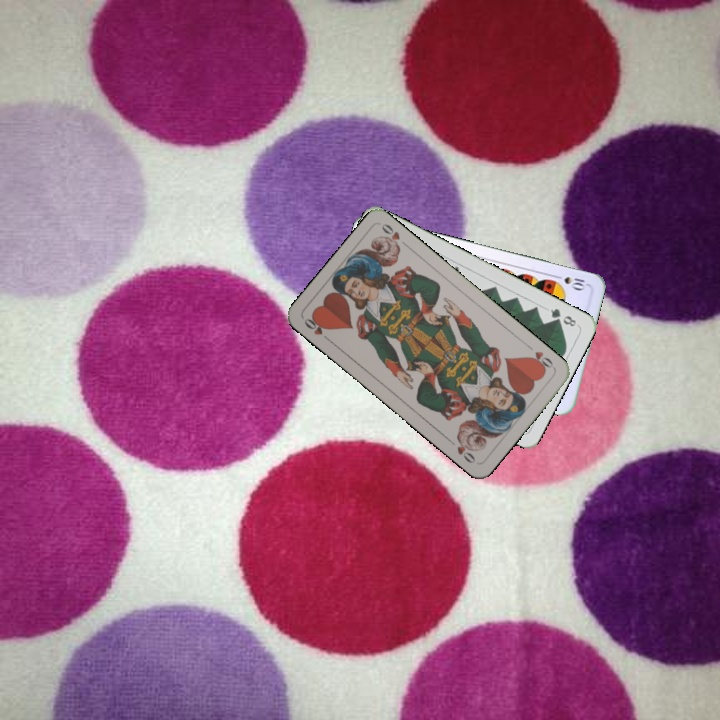G8: (546, 304, 579, 329)
HO: (523, 341, 556, 374), (300, 312, 334, 344)
S10: (550, 271, 587, 292)
